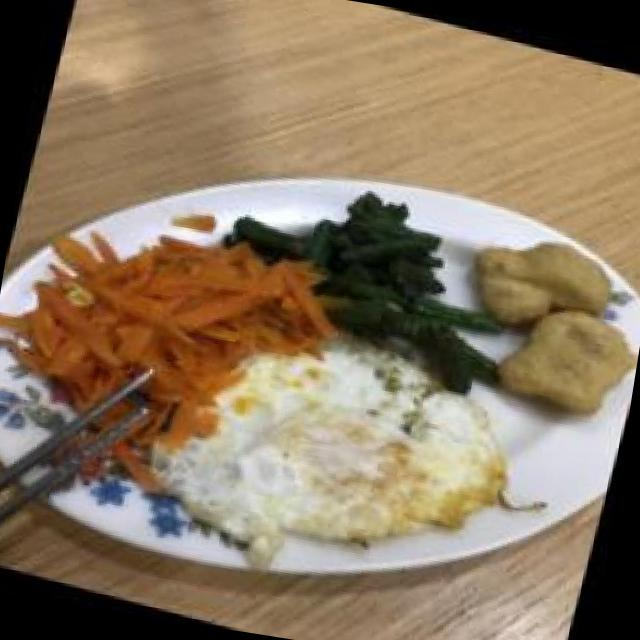carrot_eggs: (0, 194, 283, 480)
chicken_nuggets: (437, 218, 640, 423)
fried_eggs: (146, 298, 534, 598)
